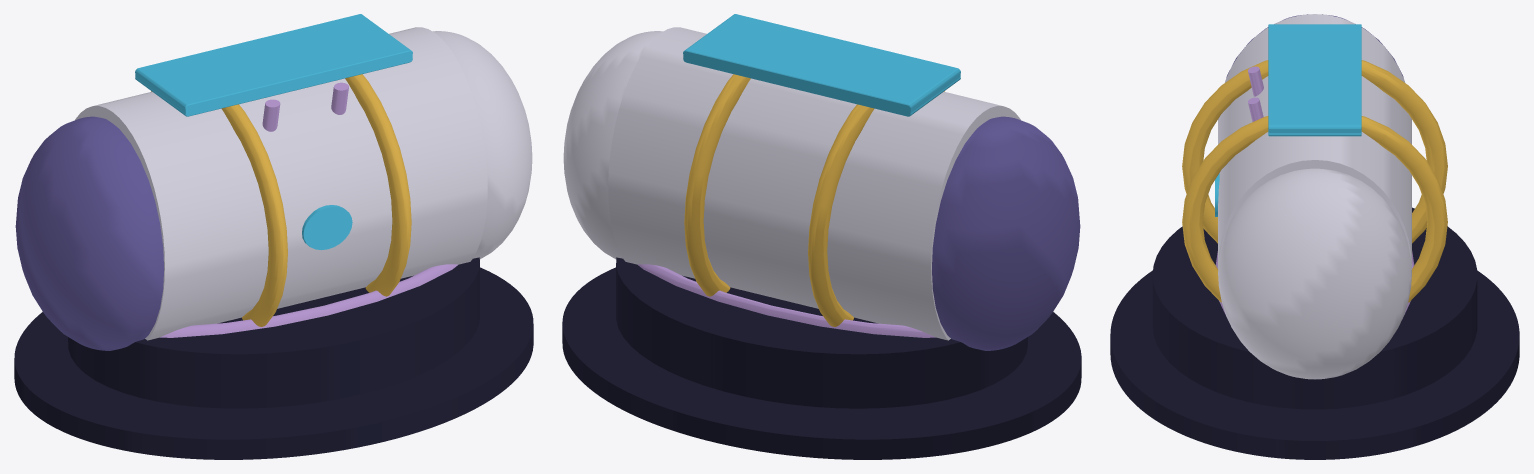
The model's file is 0949_农业科技图鉴_高分5号遥感卫星.glb.
The picture shows the model from 3 angles, left to right: view 1: azimuth 30°, elevation 25°; view 2: azimuth 150°, elevation 25°; view 3: azimuth 270°, elevation 25°; orthographic projection. The views are drawn at different scales.
Visible parts, largest first — view 1: card_0949; view 2: card_0949; view 3: card_0949.
Boxes of the visible parts, <box> form: card_0949: <box>14,14,533,459</box>; card_0949: <box>562,14,1081,459</box>; card_0949: <box>1110,14,1519,459</box>.
Size of the model in its own units: 1.67 by 1 by 1.33.
